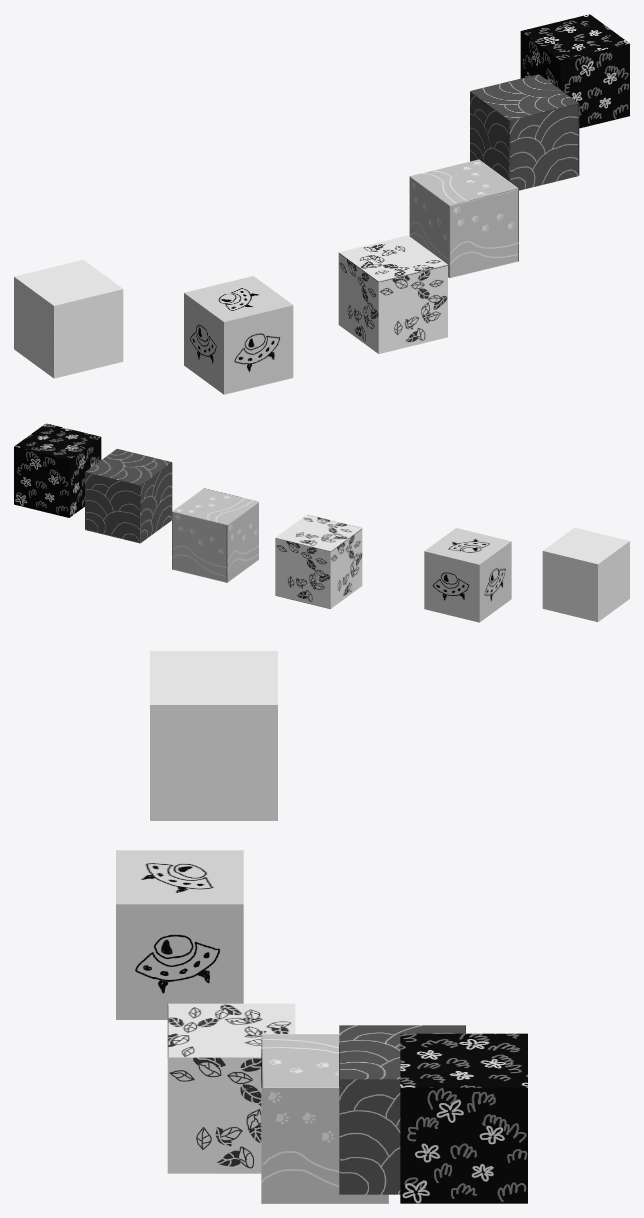
Rendered from Tilemap_01.fbx.
3 views of the same model, one above another, from view 1: azimuth 30°, elevation 25°; view 2: azimuth 150°, elevation 25°; view 3: azimuth 270°, elevation 25° (orthographic). The views are drawn at different scales.
Parts seen in each view (by area): view 1: SpaceShip, Wood, StartingPoint, Sea, Desert, Grass; view 2: SpaceShip, Wood, StartingPoint, Sea, Desert, Grass; view 3: Grass, StartingPoint, SpaceShip, Wood, Desert, Sea.
Part boxes in pixels (box(x1,y1,x2,y2)): SpaceShip: box(184, 276, 293, 394); Wood: box(338, 235, 447, 353); StartingPoint: box(14, 259, 123, 378); Sea: box(470, 74, 579, 190); Desert: box(409, 159, 518, 277); Grass: box(520, 14, 629, 128); SpaceShip: box(424, 528, 511, 622); Wood: box(275, 514, 362, 608); StartingPoint: box(542, 527, 629, 621); Sea: box(85, 449, 172, 543); Desert: box(172, 488, 258, 582); Grass: box(14, 423, 101, 517); Grass: box(400, 1033, 527, 1203); StartingPoint: box(150, 651, 277, 820); SpaceShip: box(116, 850, 243, 1019); Wood: box(167, 1003, 295, 1173); Desert: box(261, 1034, 388, 1203); Sea: box(339, 1025, 465, 1194).
Bounding box in the file's own units: 18.85 × 4.91 × 6.45.
